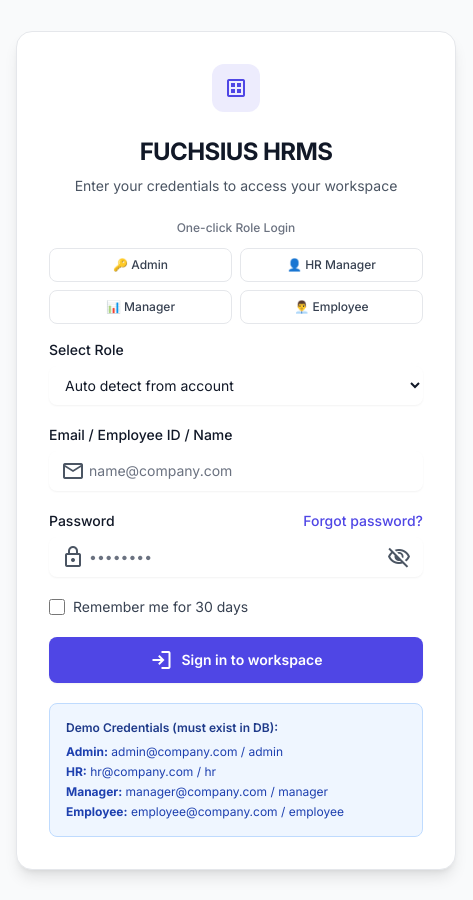
Login Component Deep Tests › shows error message on invalid login
Type "wrong@company.com" into the field labelled "Email / Employee ID / Name".
click(236, 470); type("wrong@company.com")  # box [49,450,423,490]
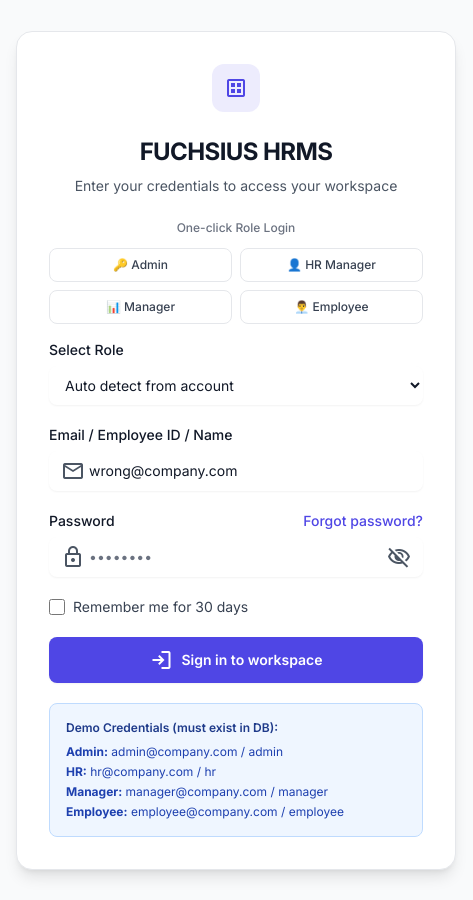
Type "badpass" into the password field labelled "Password".
click(236, 556); type("badpass")  # box [49,536,423,576]
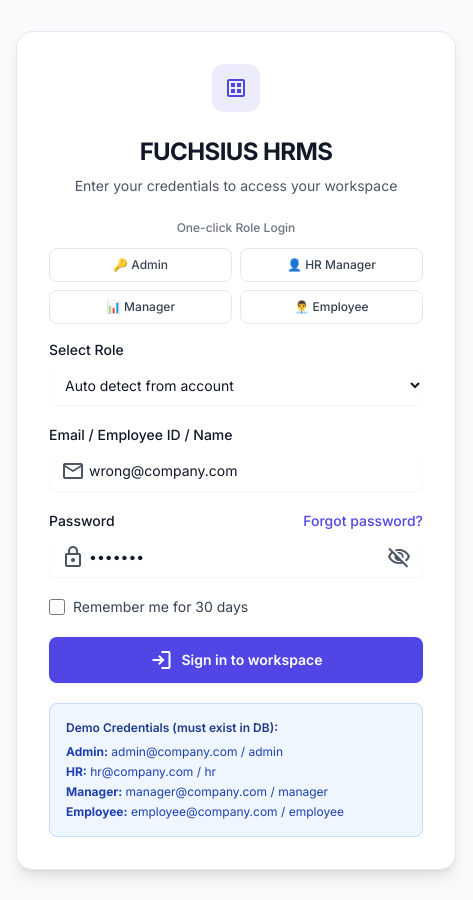
Click the button "Sign in to workspace".
click(236, 660)  # box [49,636,423,682]
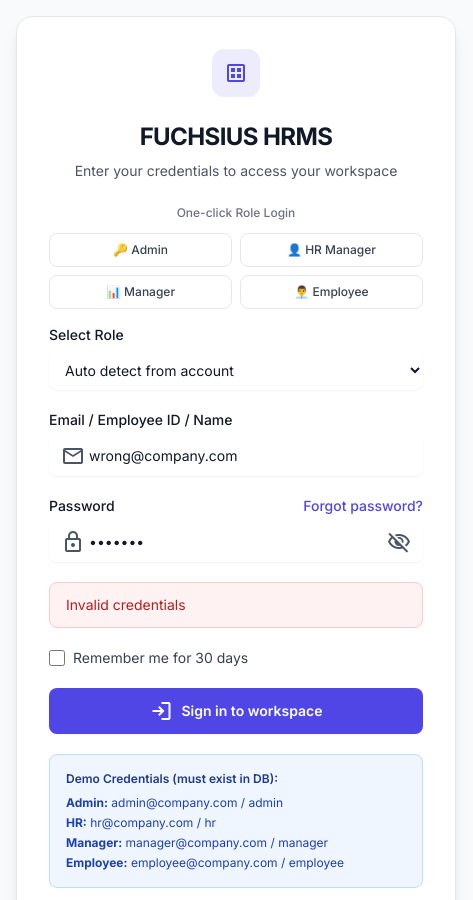
Now the text "Invalid credentials" is shown, box [49,582,423,628]
